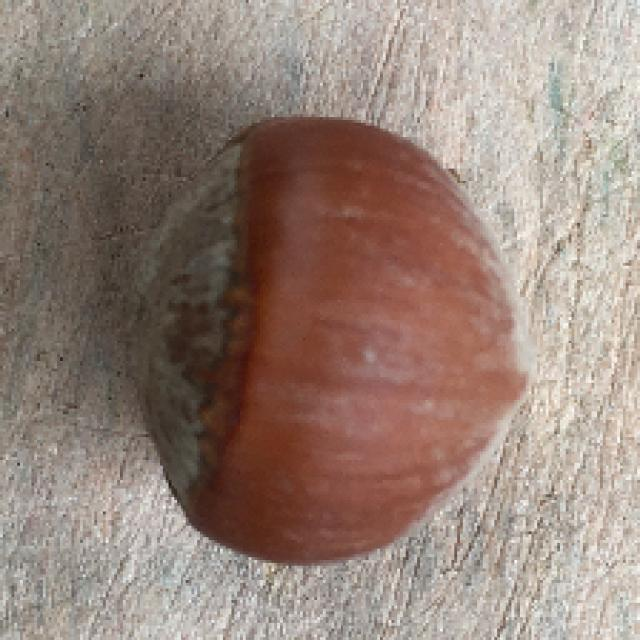QualityHazelnut: (115, 120, 536, 568)
